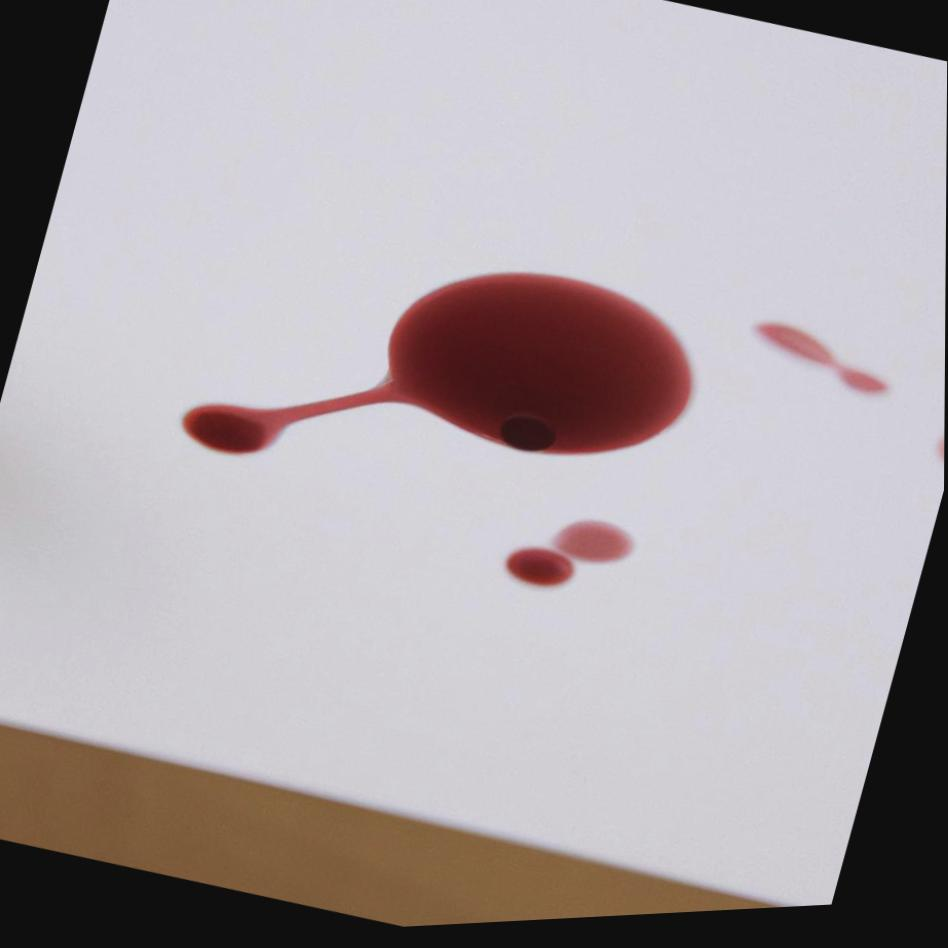Fire: (182, 278, 690, 462), (505, 527, 634, 594)
